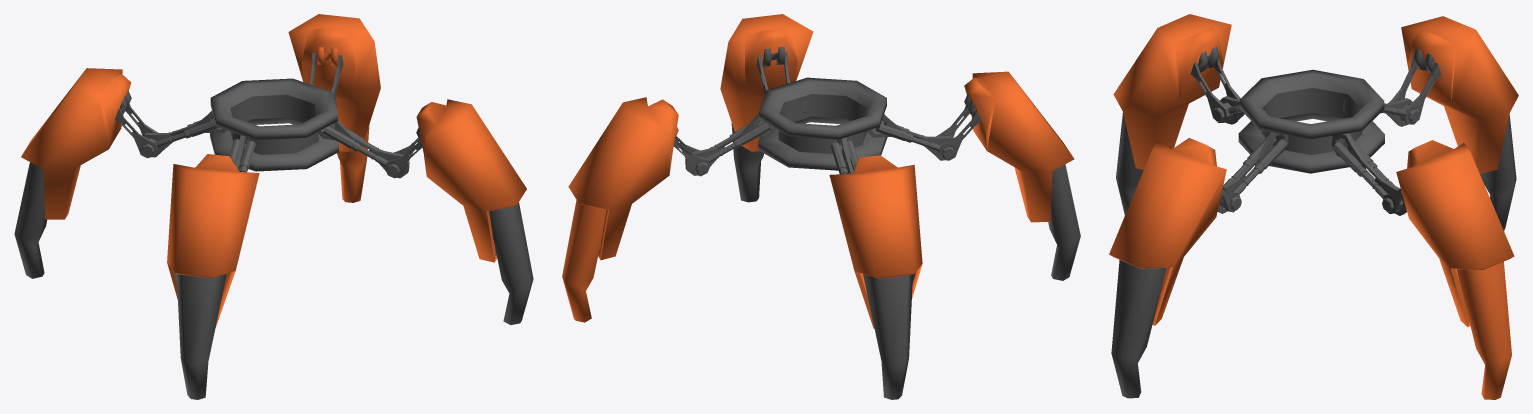
Rendered from enemy_spider.fbx.
3 views of the same model, side by side, from view 1: azimuth 30°, elevation 25°; view 2: azimuth 150°, elevation 25°; view 3: azimuth 270°, elevation 25° (orthographic). The views are drawn at different scales.
Visible parts, largest first — view 1: enemy_spider; view 2: enemy_spider; view 3: enemy_spider.
Boxes of the visible parts, x1,y1,x2,y2 form: enemy_spider: [14, 14, 533, 399]; enemy_spider: [562, 14, 1080, 399]; enemy_spider: [1109, 14, 1518, 399].
Bounding box in the file's own units: 806 × 450 × 742.
